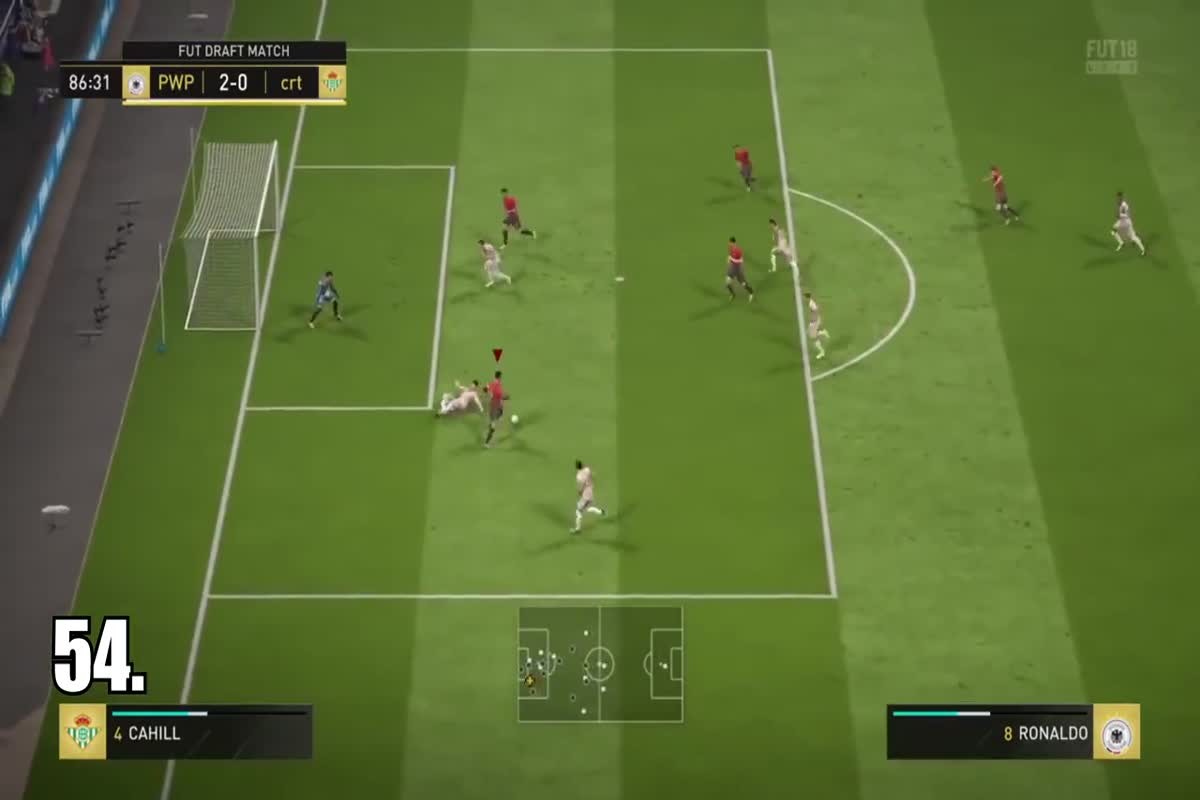ball: (504, 409, 531, 430)
